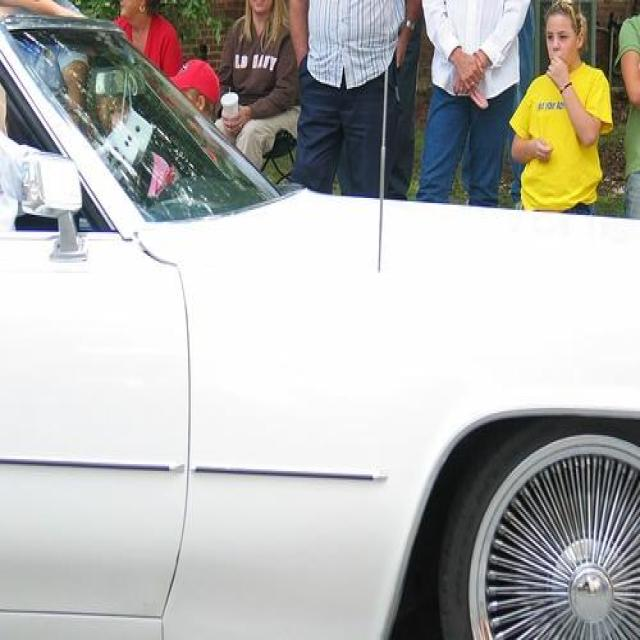No_Gloves: (451, 43, 488, 99), (542, 40, 573, 92), (527, 130, 559, 178), (220, 101, 256, 133)
